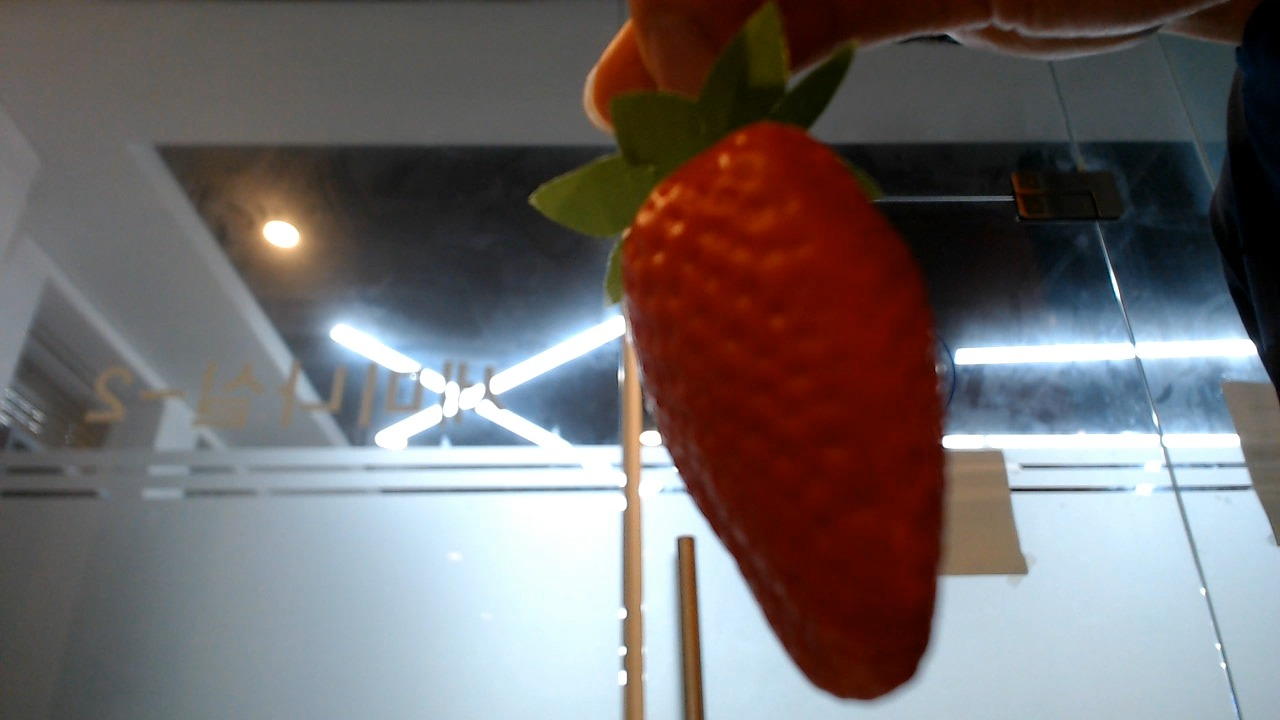strawberry: (567, 109, 970, 705)
